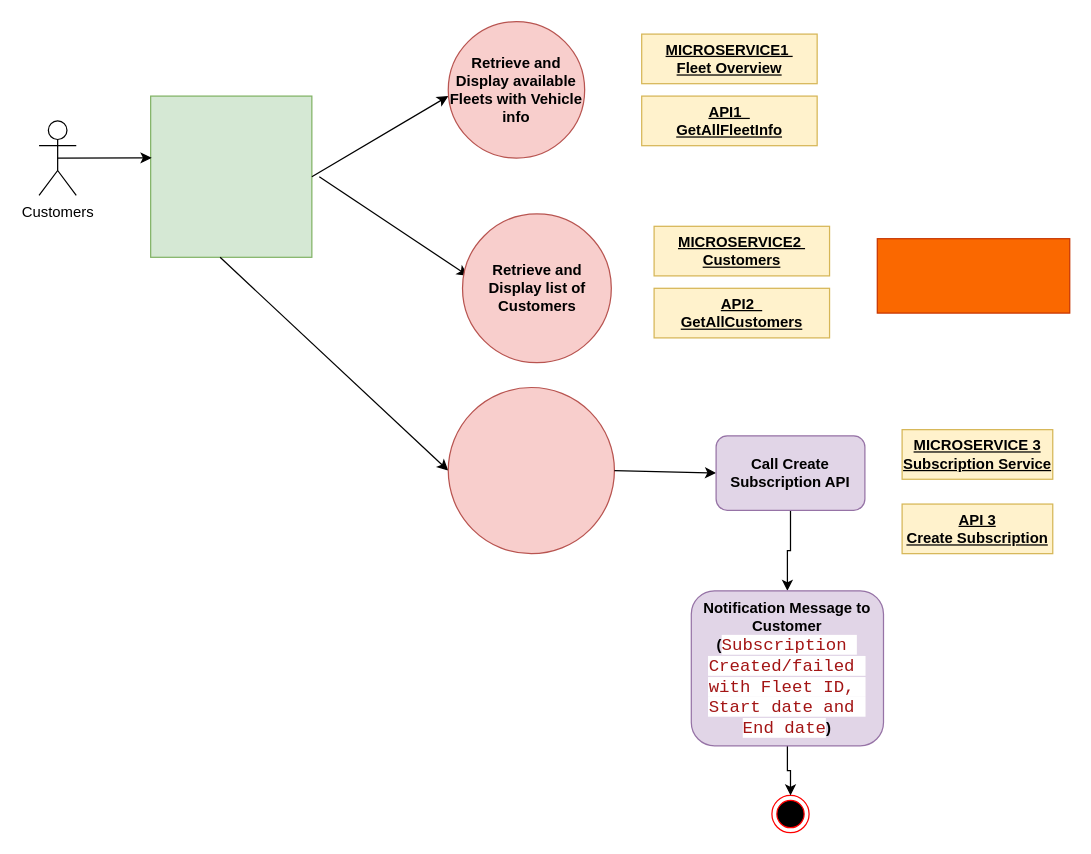
This 1091x854 diagram has some shape labels left out. Here are the shapes that lost their labels. From the top down, the centre of each, then its label:
(230,176): Angular Frontend (E2: Transport As A Service => Subscription Service)
(973,275): Reuse API2 via Event Broker - Apache Kafka From E4: Dealer Portal
(530,470): "Create Subscription" with Fleet details selected
